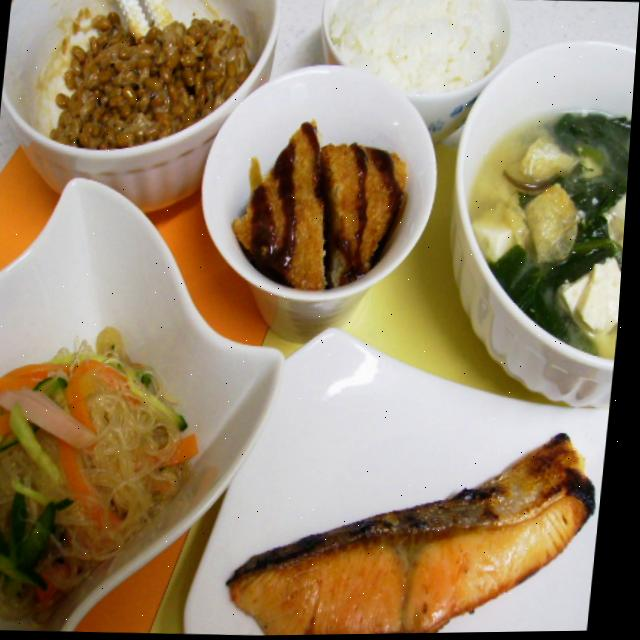熟制海鲜: (247, 414, 614, 637)
